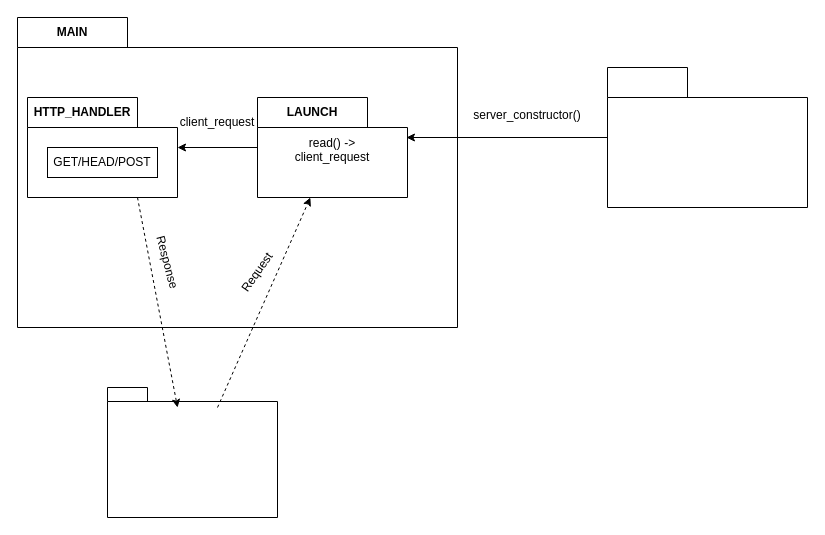
Image size: 825x535. Some labels were removed from this diagram. The shapes that lost their labels are listed below. From the top down, each one's centre as x and y in pixels, then its label:
the point at 707,137: Server socket() bind() listen()
the point at 192,452: Cliente externo
